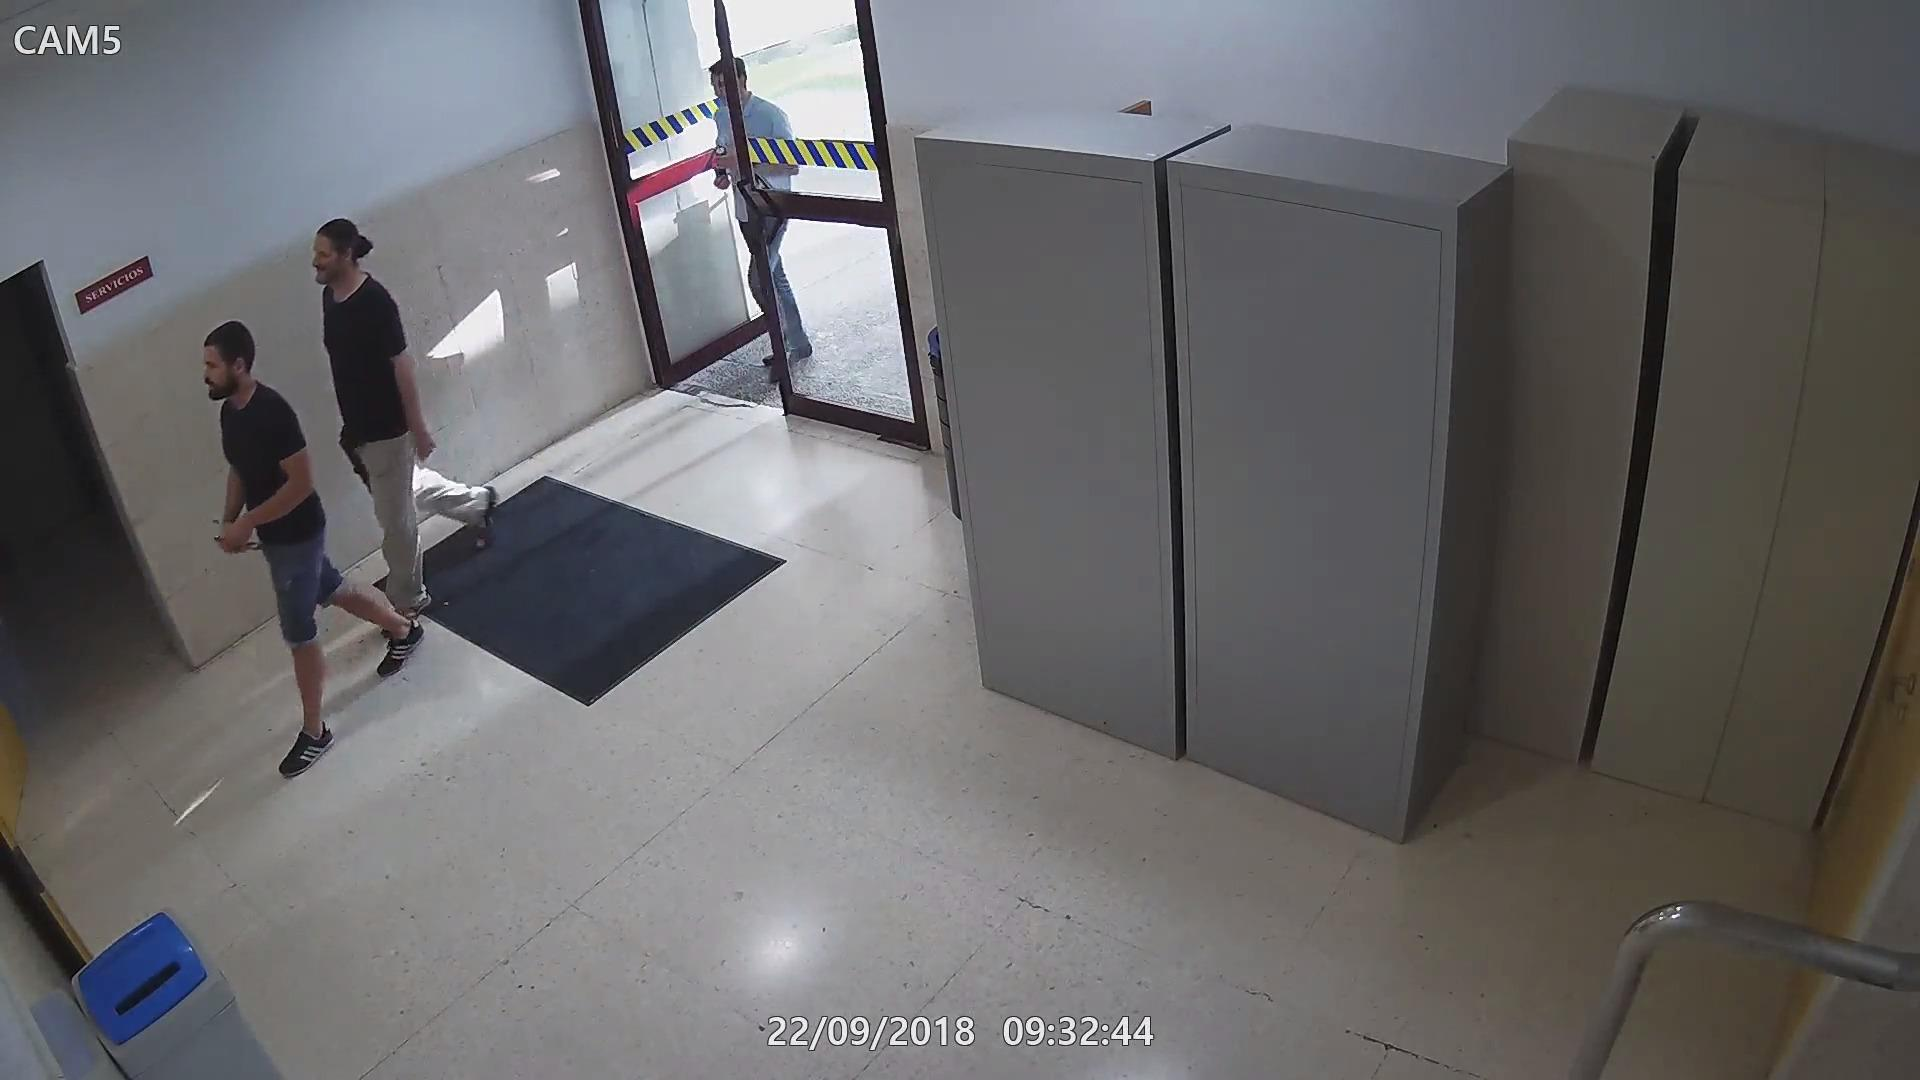Handgun: (203, 520, 266, 568)
